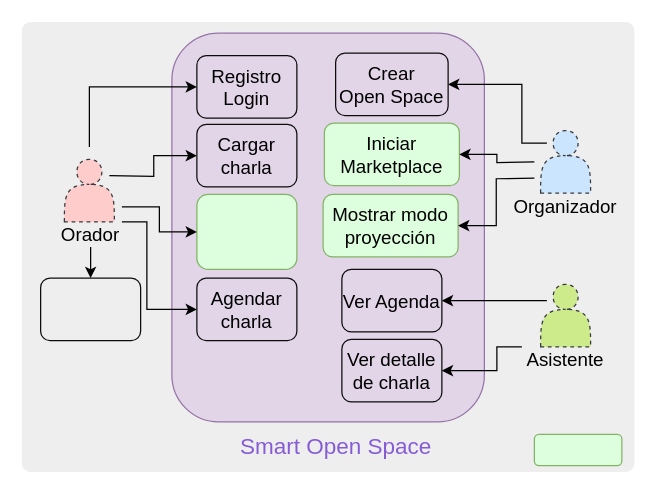
This 655x493 diagram has some shape labels left out. Here are the shapes that lost their labels. From the top down, the centre of each, then its label:
[246,231]: Encolarse para exponer
[90,309]: Exponer
[577,449]: Agregado
